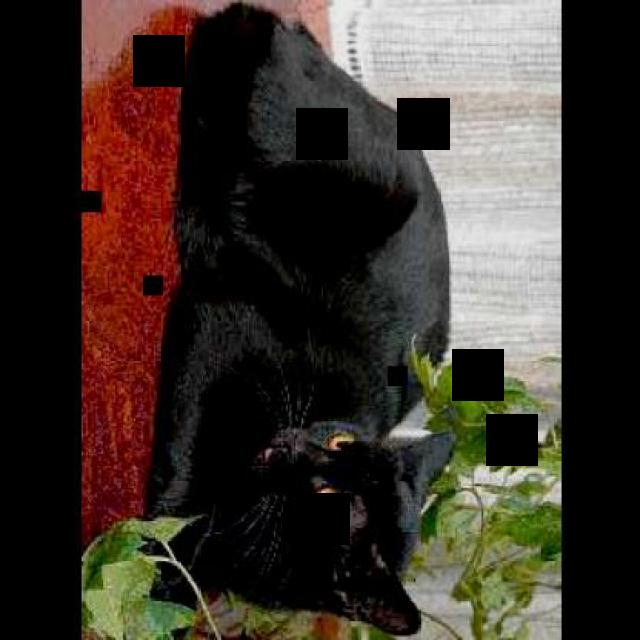unauthorized: (140, 0, 455, 637)
